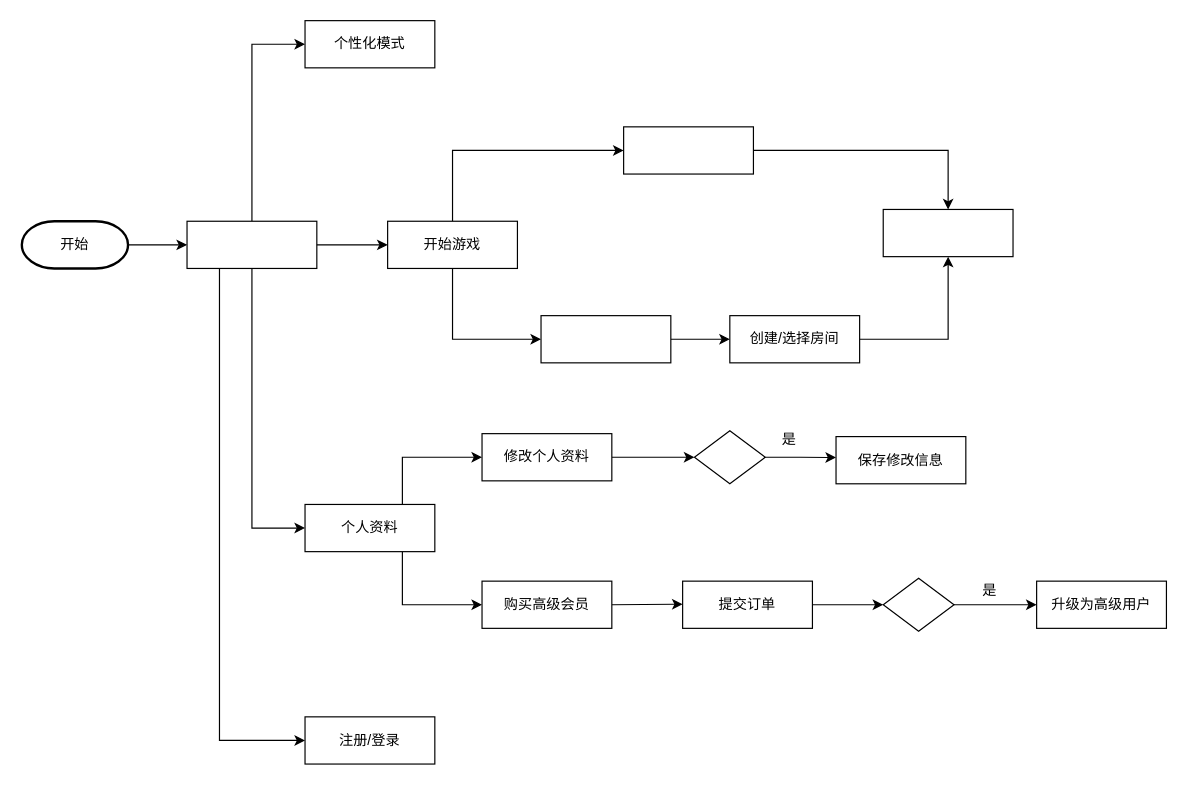
Some shapes in this 1187 by 785 pixel diagram are drawn without their labels. Each missing label, with the centre of its shape:
"单人模式" belongs at point 687,150.
"多人模式" belongs at point 605,338.
"是否保存" belongs at point 729,457.
"是否支付" belongs at point 918,604.
"选择拼图" belongs at point 947,232.
"选择浏览模块" belongs at point 251,244.
